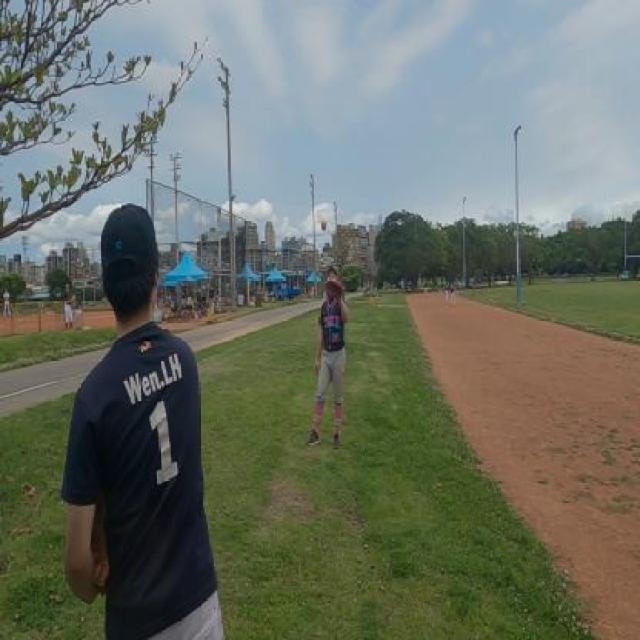baseball: (320, 219, 326, 230)
